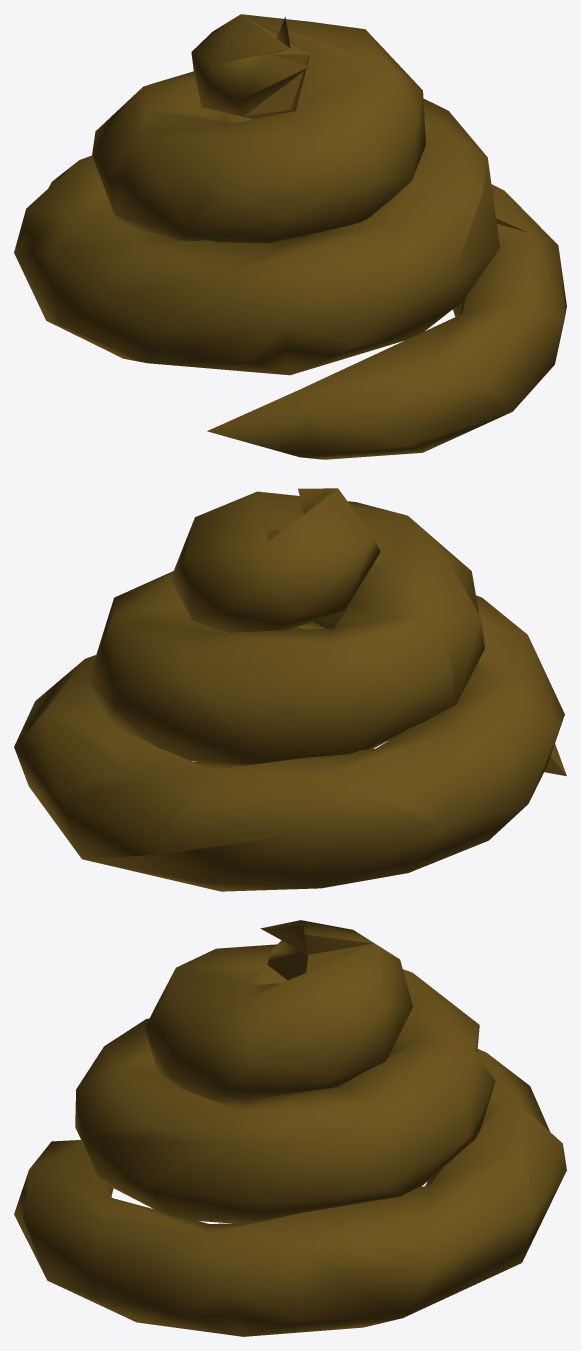
File: poo.fbx
3 renders of one model, top to bottom at view 1: azimuth 30°, elevation 25°; view 2: azimuth 150°, elevation 25°; view 3: azimuth 270°, elevation 25°, orthographic. The views are drawn at different scales.
Visible parts, largest first — view 1: Poo; view 2: Poo; view 3: Poo.
Part boxes in pixels (bbox=[...]): Poo: bbox=[14, 14, 566, 459]; Poo: bbox=[14, 488, 566, 891]; Poo: bbox=[14, 920, 566, 1336].
Bounding box in the file's own units: 14.02 × 9.72 × 14.97.
